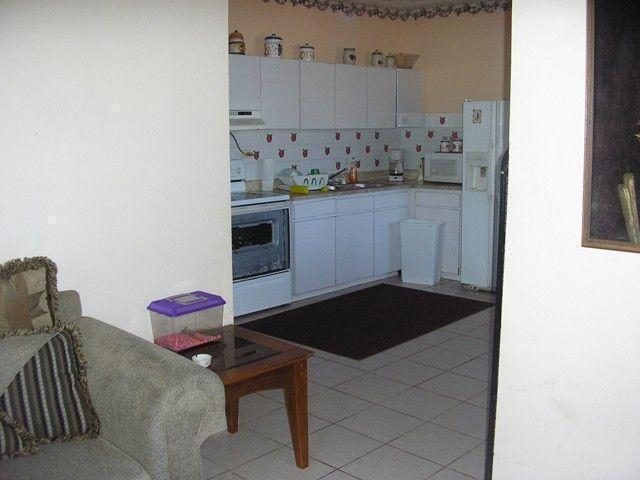Bote de Basura: (403, 215, 446, 284)
Electrodomestico: (231, 162, 295, 306), (463, 101, 501, 291)
